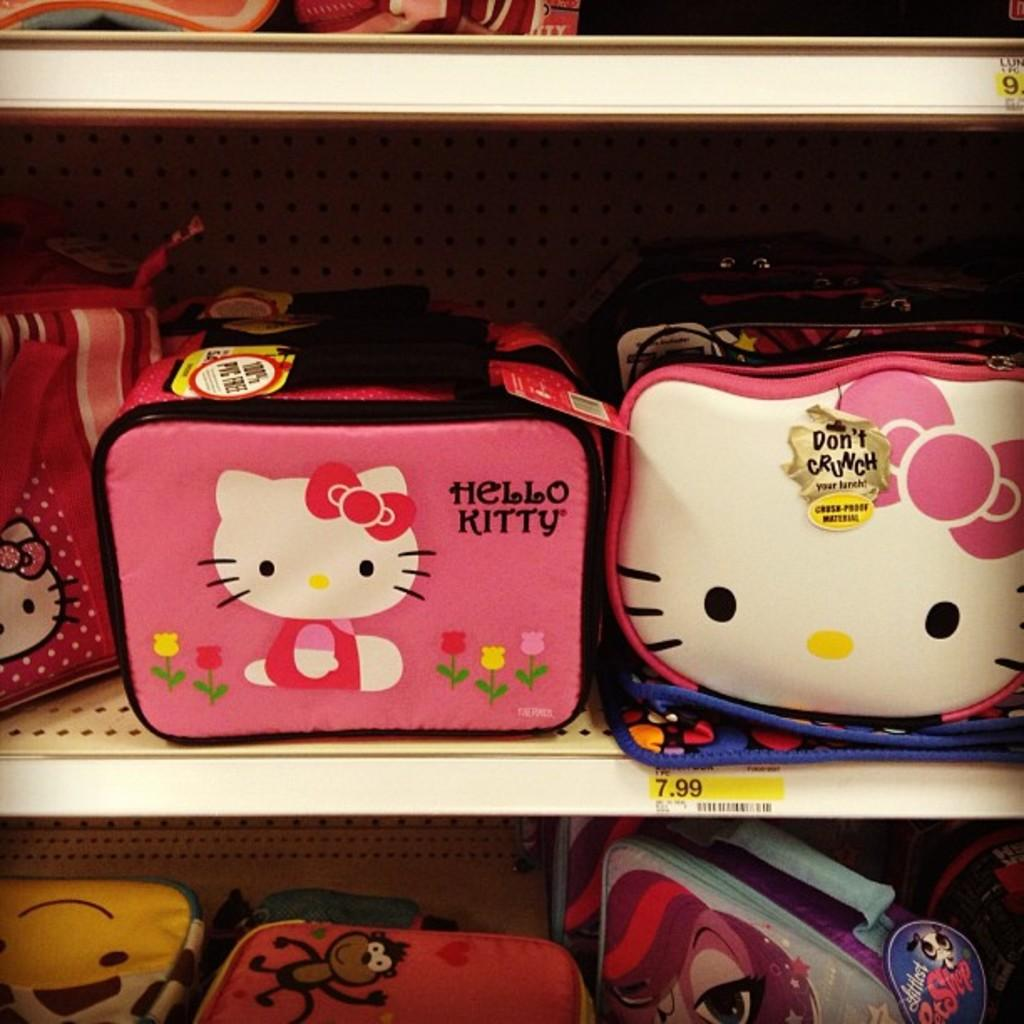Luggage-and-bags: (62, 326, 644, 766), (599, 338, 1022, 724), (0, 219, 209, 716), (537, 810, 987, 1022), (189, 897, 589, 1022), (0, 875, 211, 1021), (288, 0, 577, 45), (0, 0, 293, 37)
